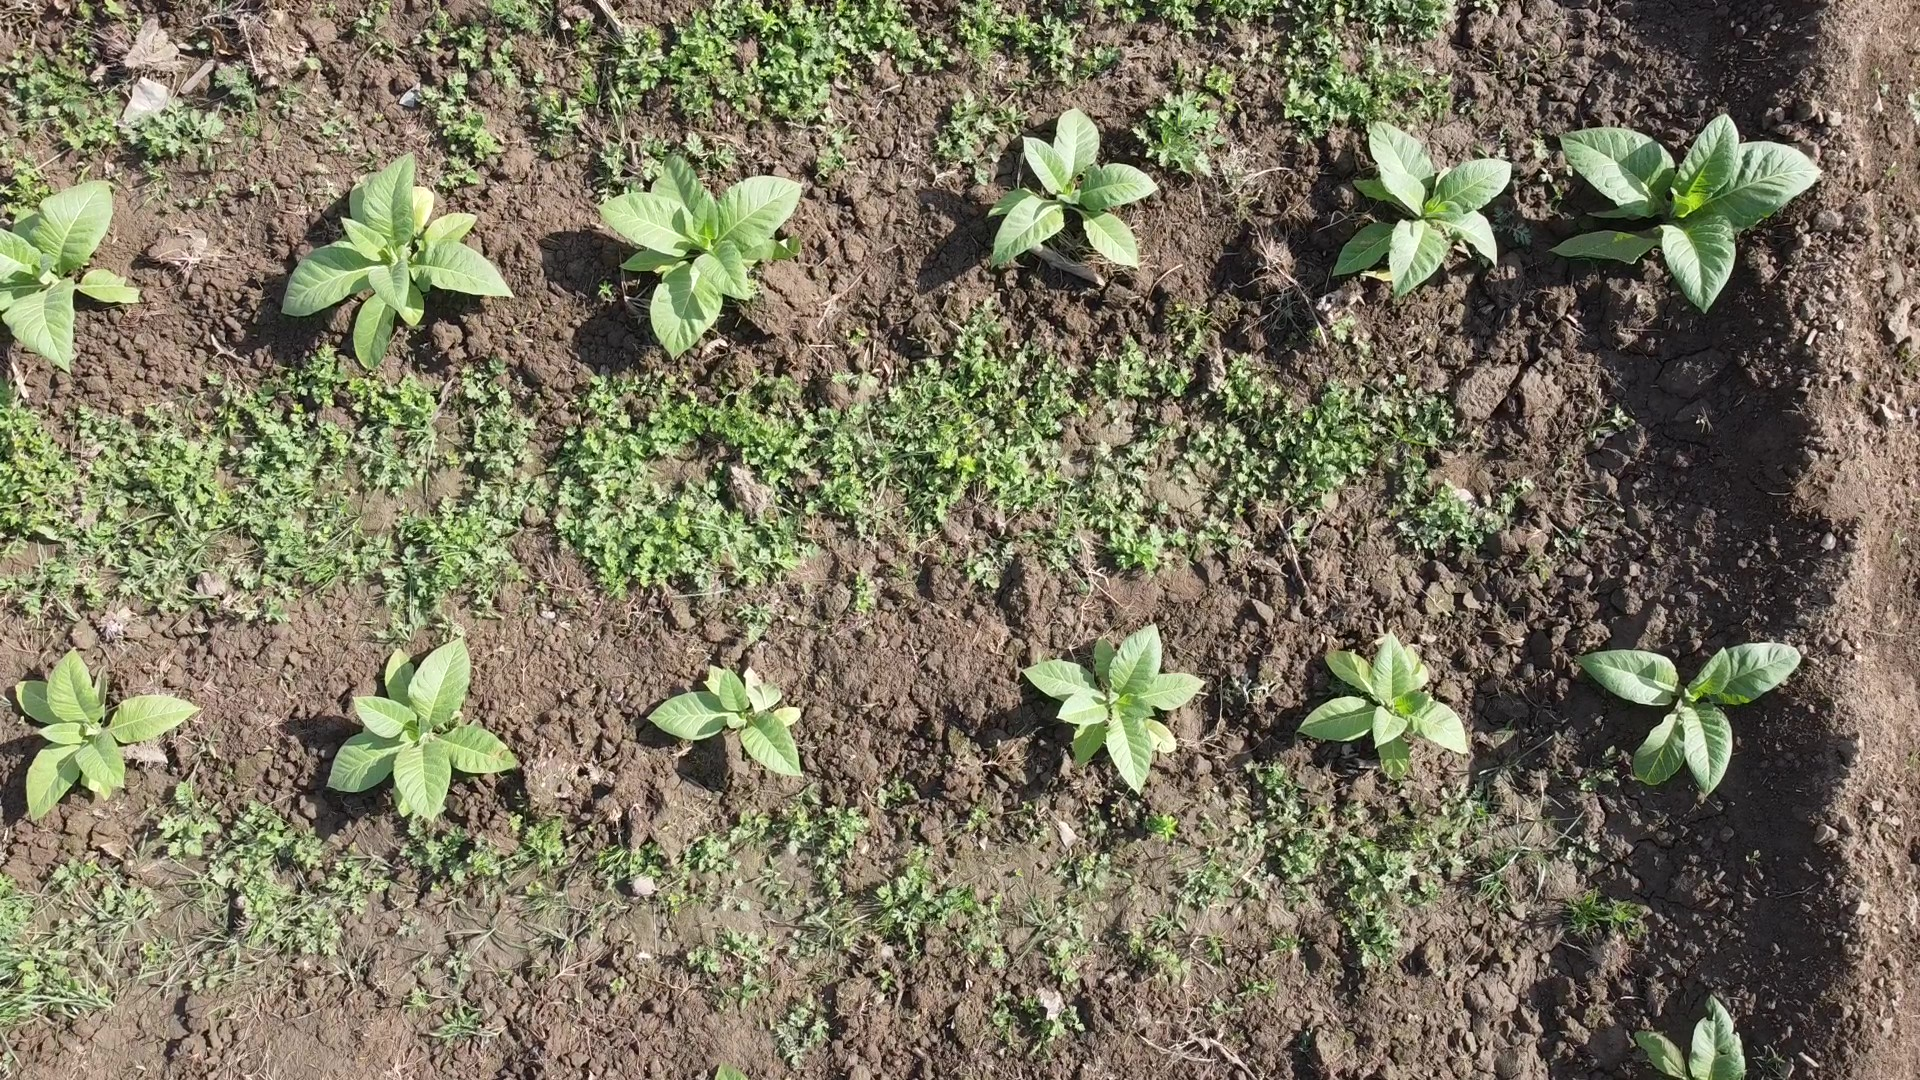weed: (1545, 112, 1824, 315), (280, 150, 518, 372), (593, 152, 807, 363), (326, 633, 524, 824), (13, 645, 206, 824), (1331, 120, 1513, 305), (1021, 621, 1208, 796), (986, 107, 1162, 273), (0, 178, 141, 372), (1294, 629, 1469, 781), (1575, 641, 1735, 796), (646, 661, 806, 778), (1634, 993, 1747, 1080), (876, 699, 880, 702)
